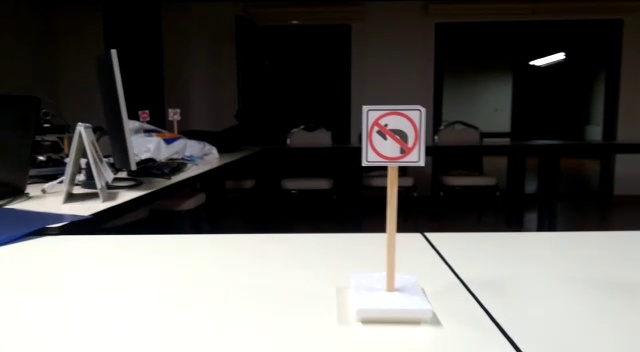sola_donulmez: (367, 106, 419, 168)
